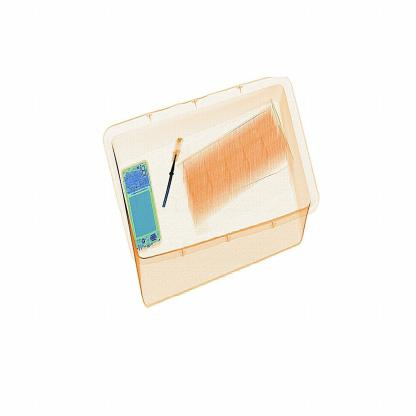gun: (155, 134, 185, 212)
